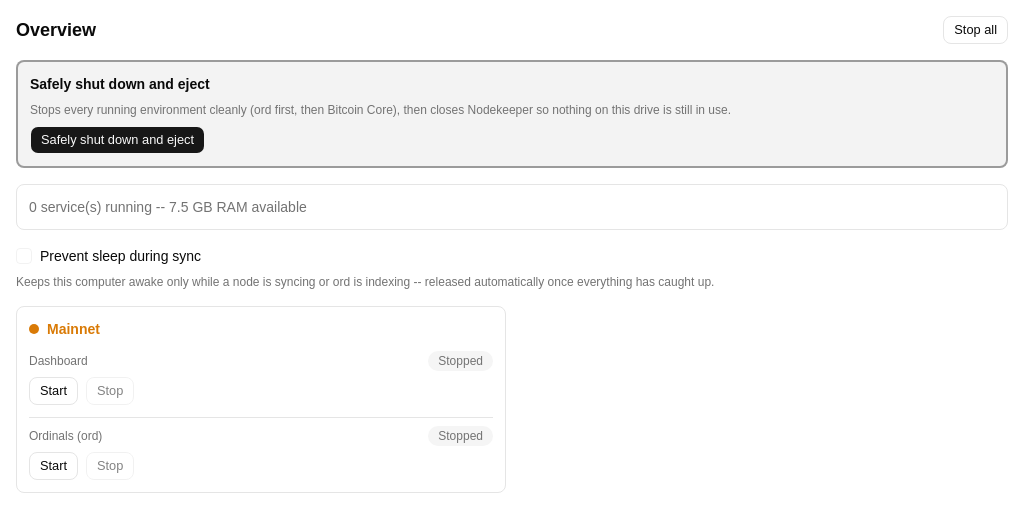
it: Overview: Safely shut down and eject › says it's safe to unplug once every service has stopped
This screenshot has width=1024, height=510.
Click the button "Safely shut down and eject": [118, 140] box [30,126,205,154]
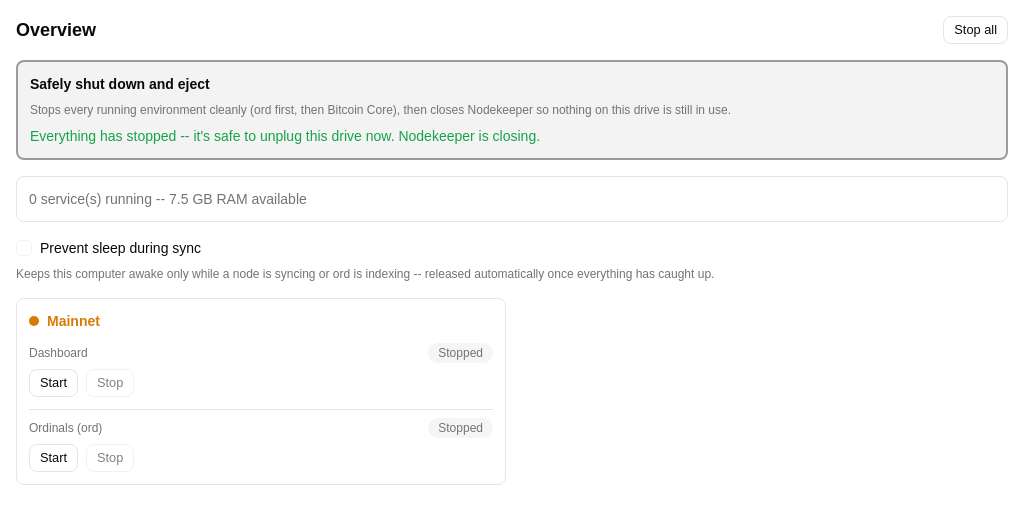
Check: the text "Nodekeeper is closing" is shown, box [30,128,540,144]
